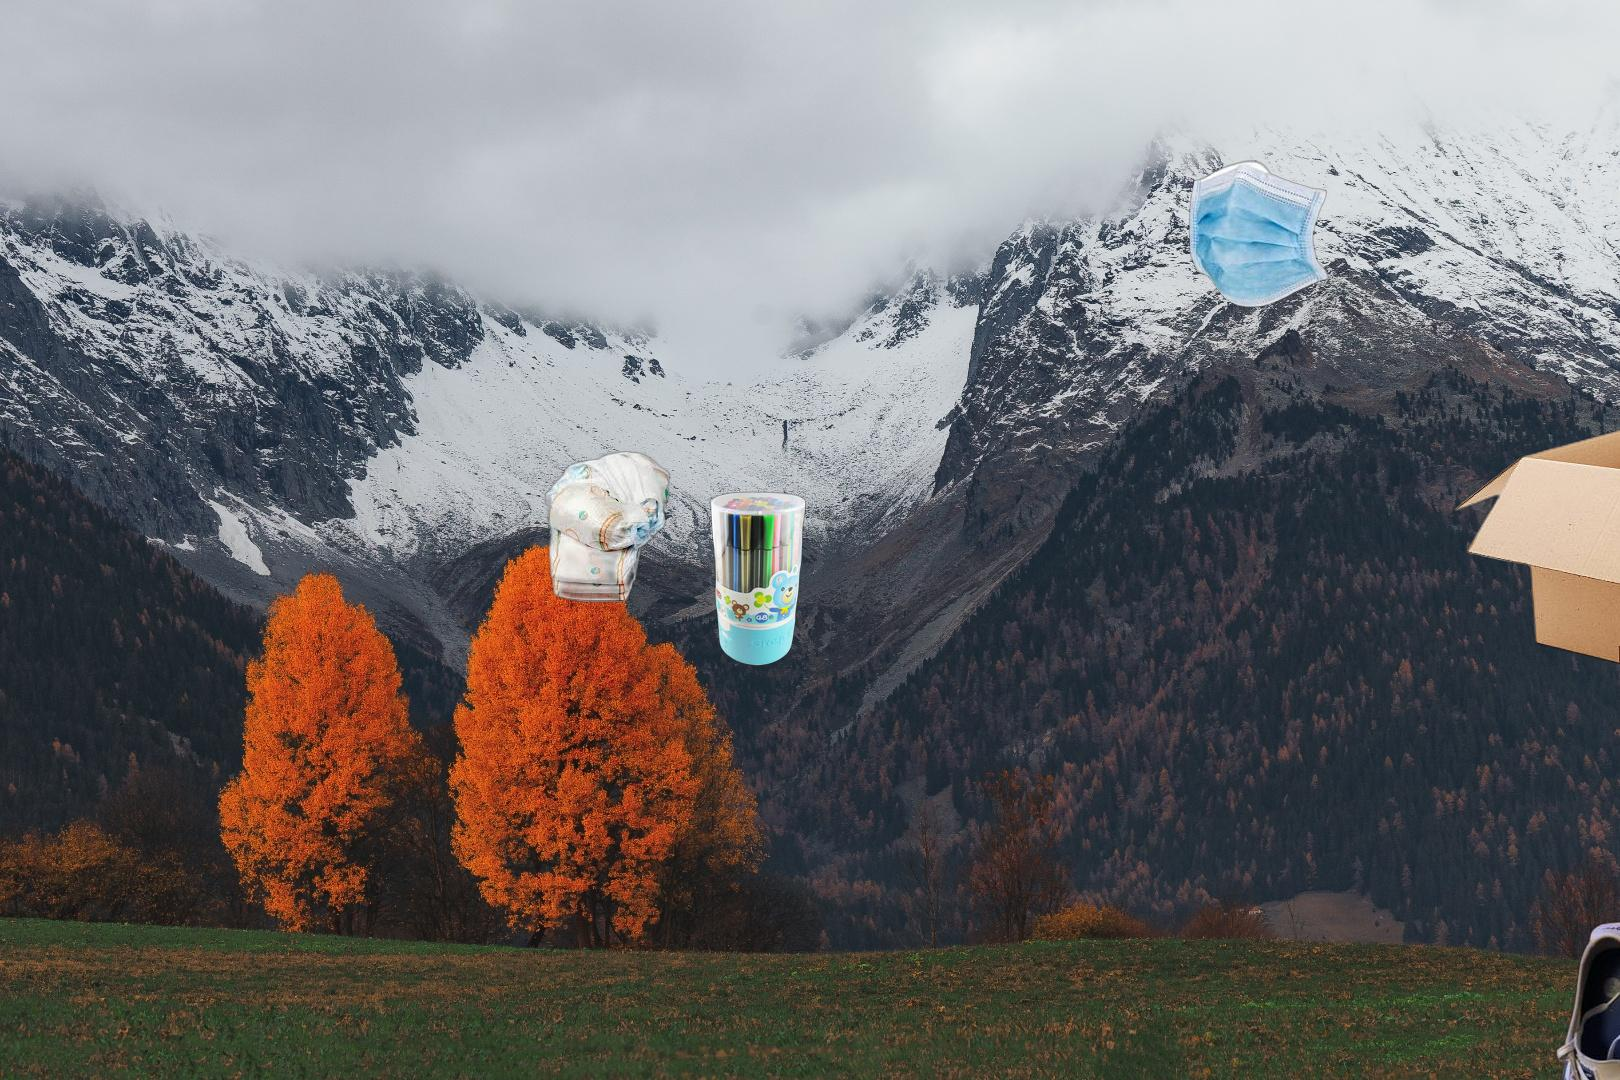biological: (1607, 973, 1620, 1080)
penholder: (665, 489, 809, 677)
shoes: (1554, 905, 1620, 1080)
trash: (1186, 159, 1389, 310), (542, 450, 676, 605)
trashbox-cardboard: (1449, 418, 1620, 697)
